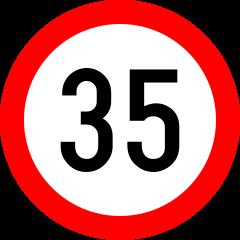Speed Limit -35-: (48, 62, 189, 187)
